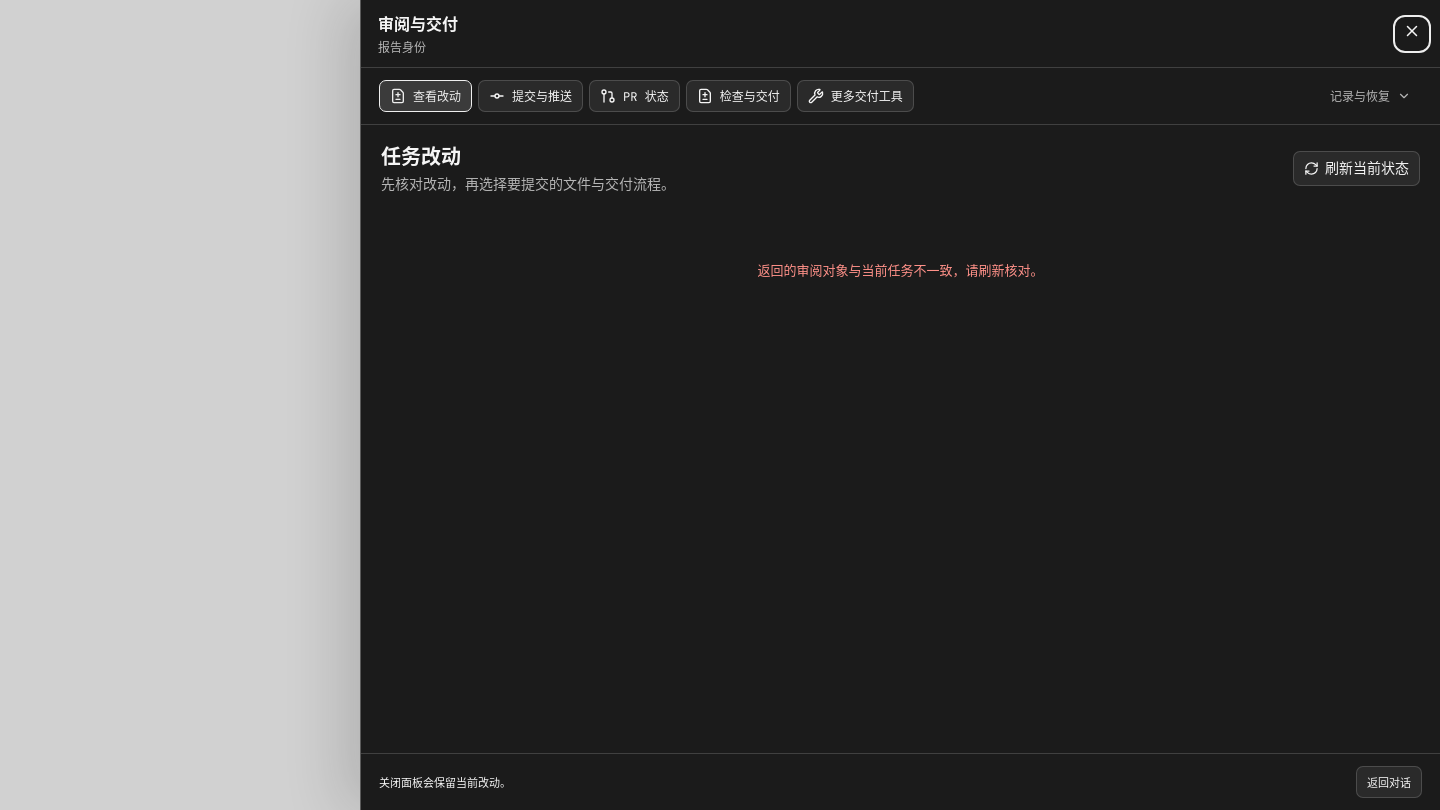
Test: offers coding configuration and the exact plan within the current task while keeping history read-only
The image size is (1440, 810).
Click the button "记录与恢复": coordinates (1370, 96) [1319,80,1422,112]
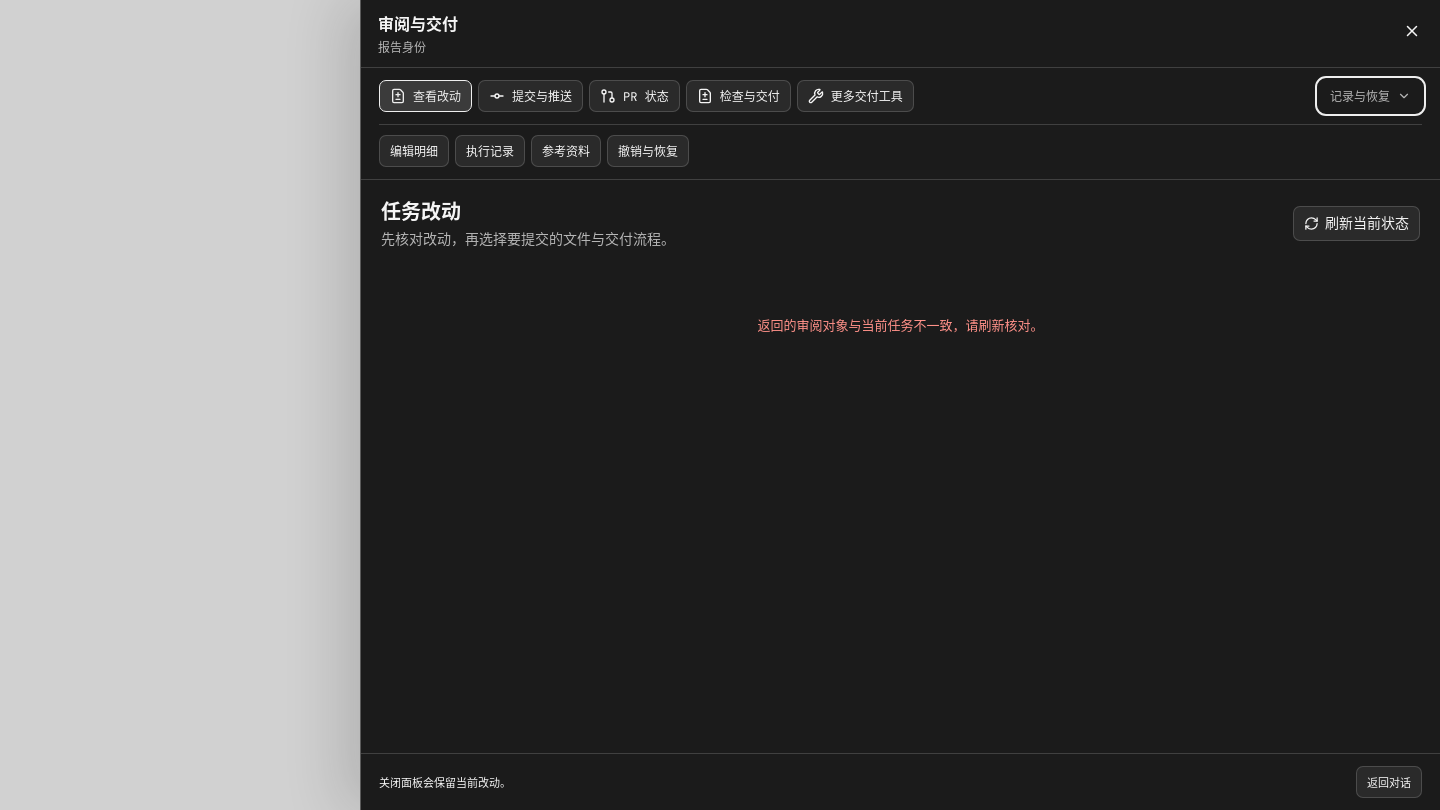
Click the button "检查与交付": coordinates (738, 96) [686,80,791,112]
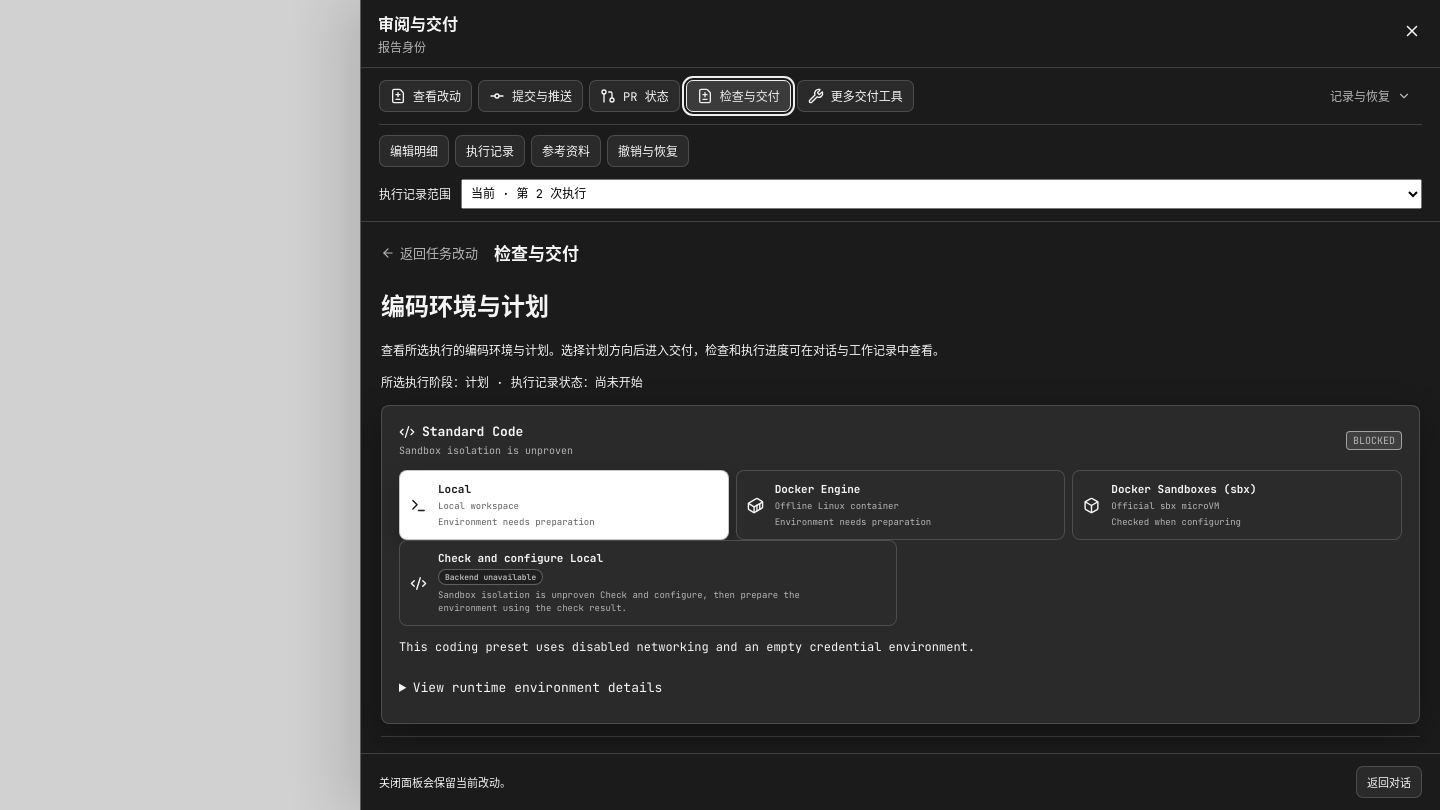
Click the button "Check and configure Local": coordinates (520, 558) [399,540,897,626]
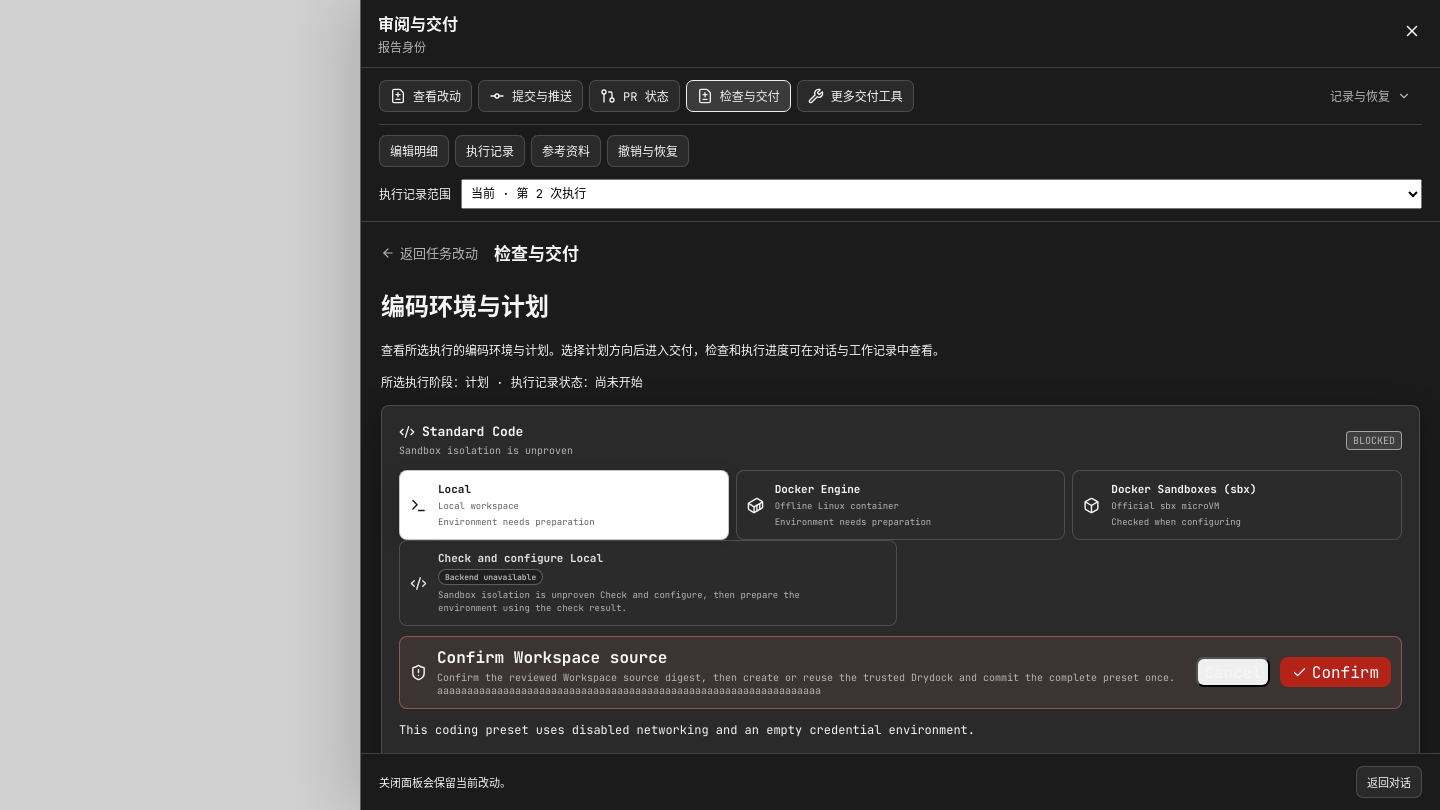
Result: the dropdown named "选择审阅的执行记录" shows "当前 · 第 2 次执行"
Result: the text "Confirm Workspace source" is shown at [437,647,667,668]
Select "历史 · 第 1 次执行" in the dropdown named "选择审阅的执行记录": coordinates (942, 194) [461,179,1422,209]
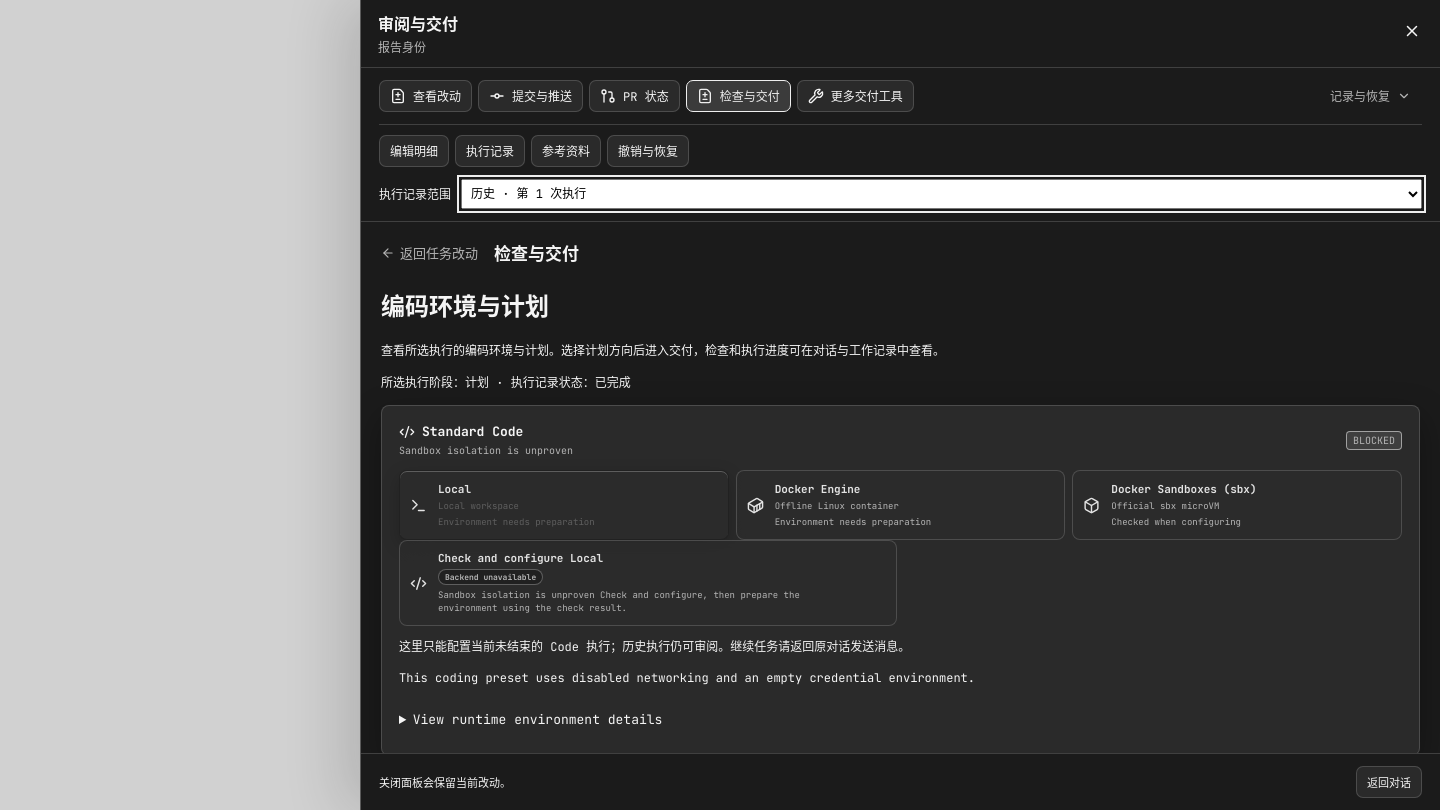
Result: the button "Check and configure Local" is disabled at [399,540,897,626]
Result: the text "这里只能配置当前未结束的 Code 执行；历史执行仍可审阅。继续任务请返回原对话发送消息。" is shown at [399,639,910,655]
